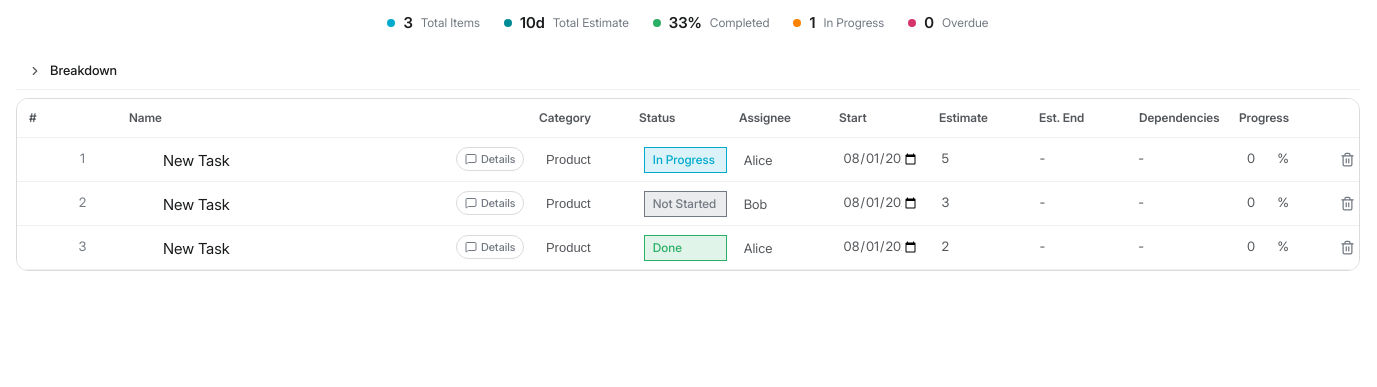
Test: TasksView › assignee and milestone charts update when filters change
Click the text "Breakdown".
click(73, 70)  # box [28, 62, 117, 78]
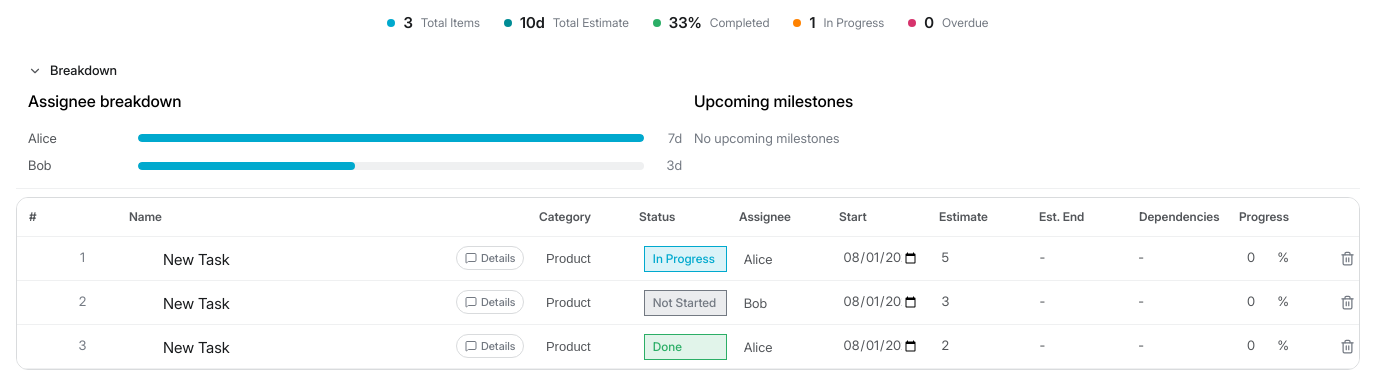
expect the text "Alice" is shown: met, box [28, 130, 57, 146]
expect the text "Bob" is shown: met, box [28, 157, 52, 173]
